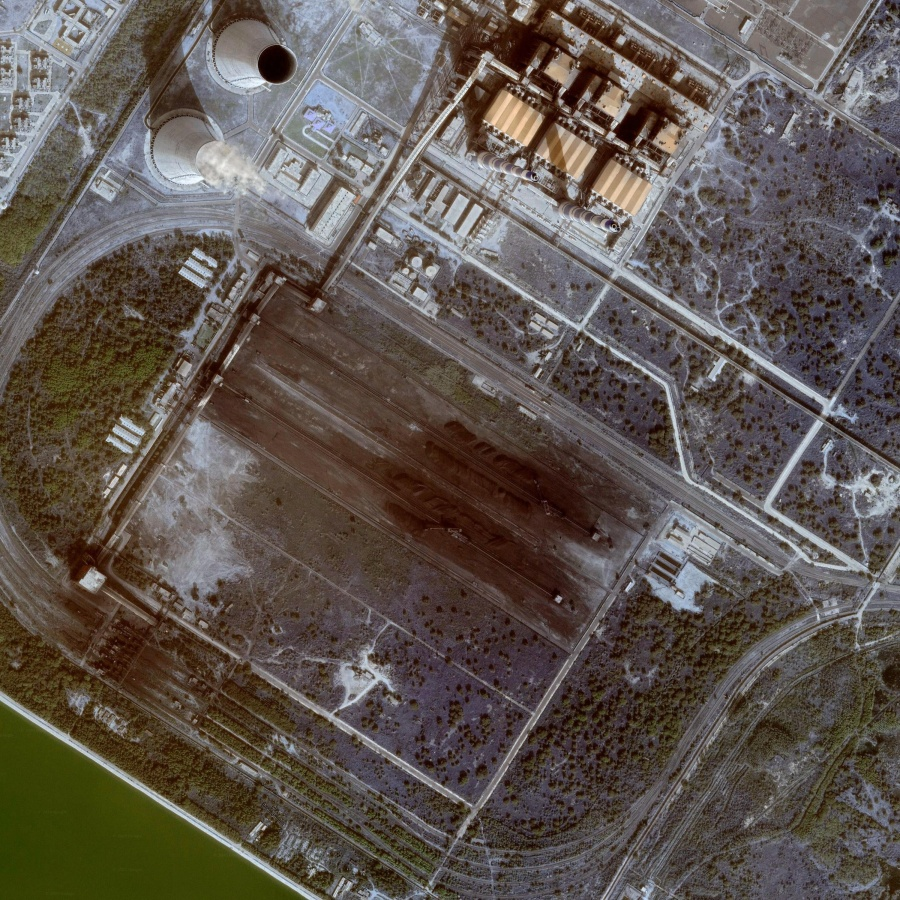PowerPlant: (185, 268, 659, 646)
